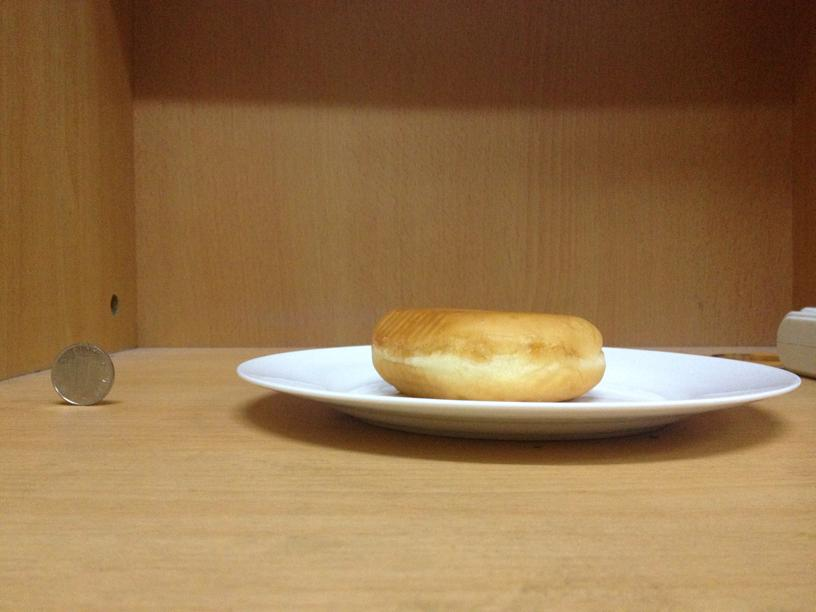coin: (48, 345, 115, 406)
doughnut: (367, 307, 606, 401)
